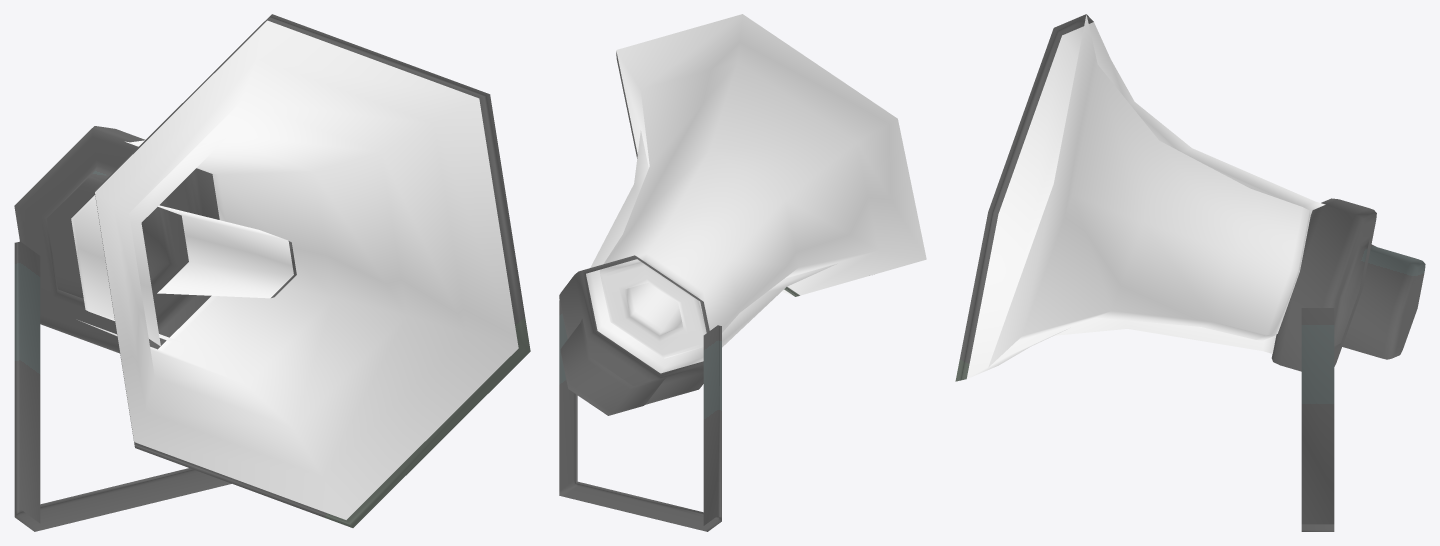
File: ps2_save-icons_hoshigariempusa.glb
3 views of the same model, side by side, from view 1: azimuth 30°, elevation 25°; view 2: azimuth 150°, elevation 25°; view 3: azimuth 270°, elevation 25° (orthographic). The views are drawn at different scales.
Parts seen in each view (by area): view 1: hosi.ico; view 2: hosi.ico; view 3: hosi.ico.
Part boxes in pixels (<box>): hosi.ico: <box>14,14,530,531</box>; hosi.ico: <box>559,14,926,531</box>; hosi.ico: <box>955,14,1425,531</box>.
Bounding box in the file's own units: 3.27 × 4.67 × 4.17.
Materials: 1 (1 with a texture image).
